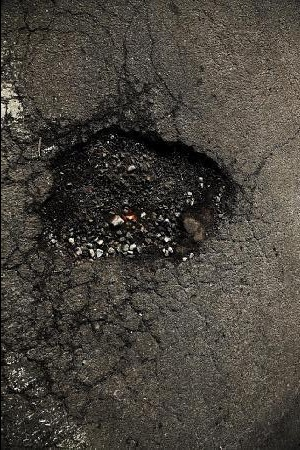pothole: (37, 109, 242, 274)
